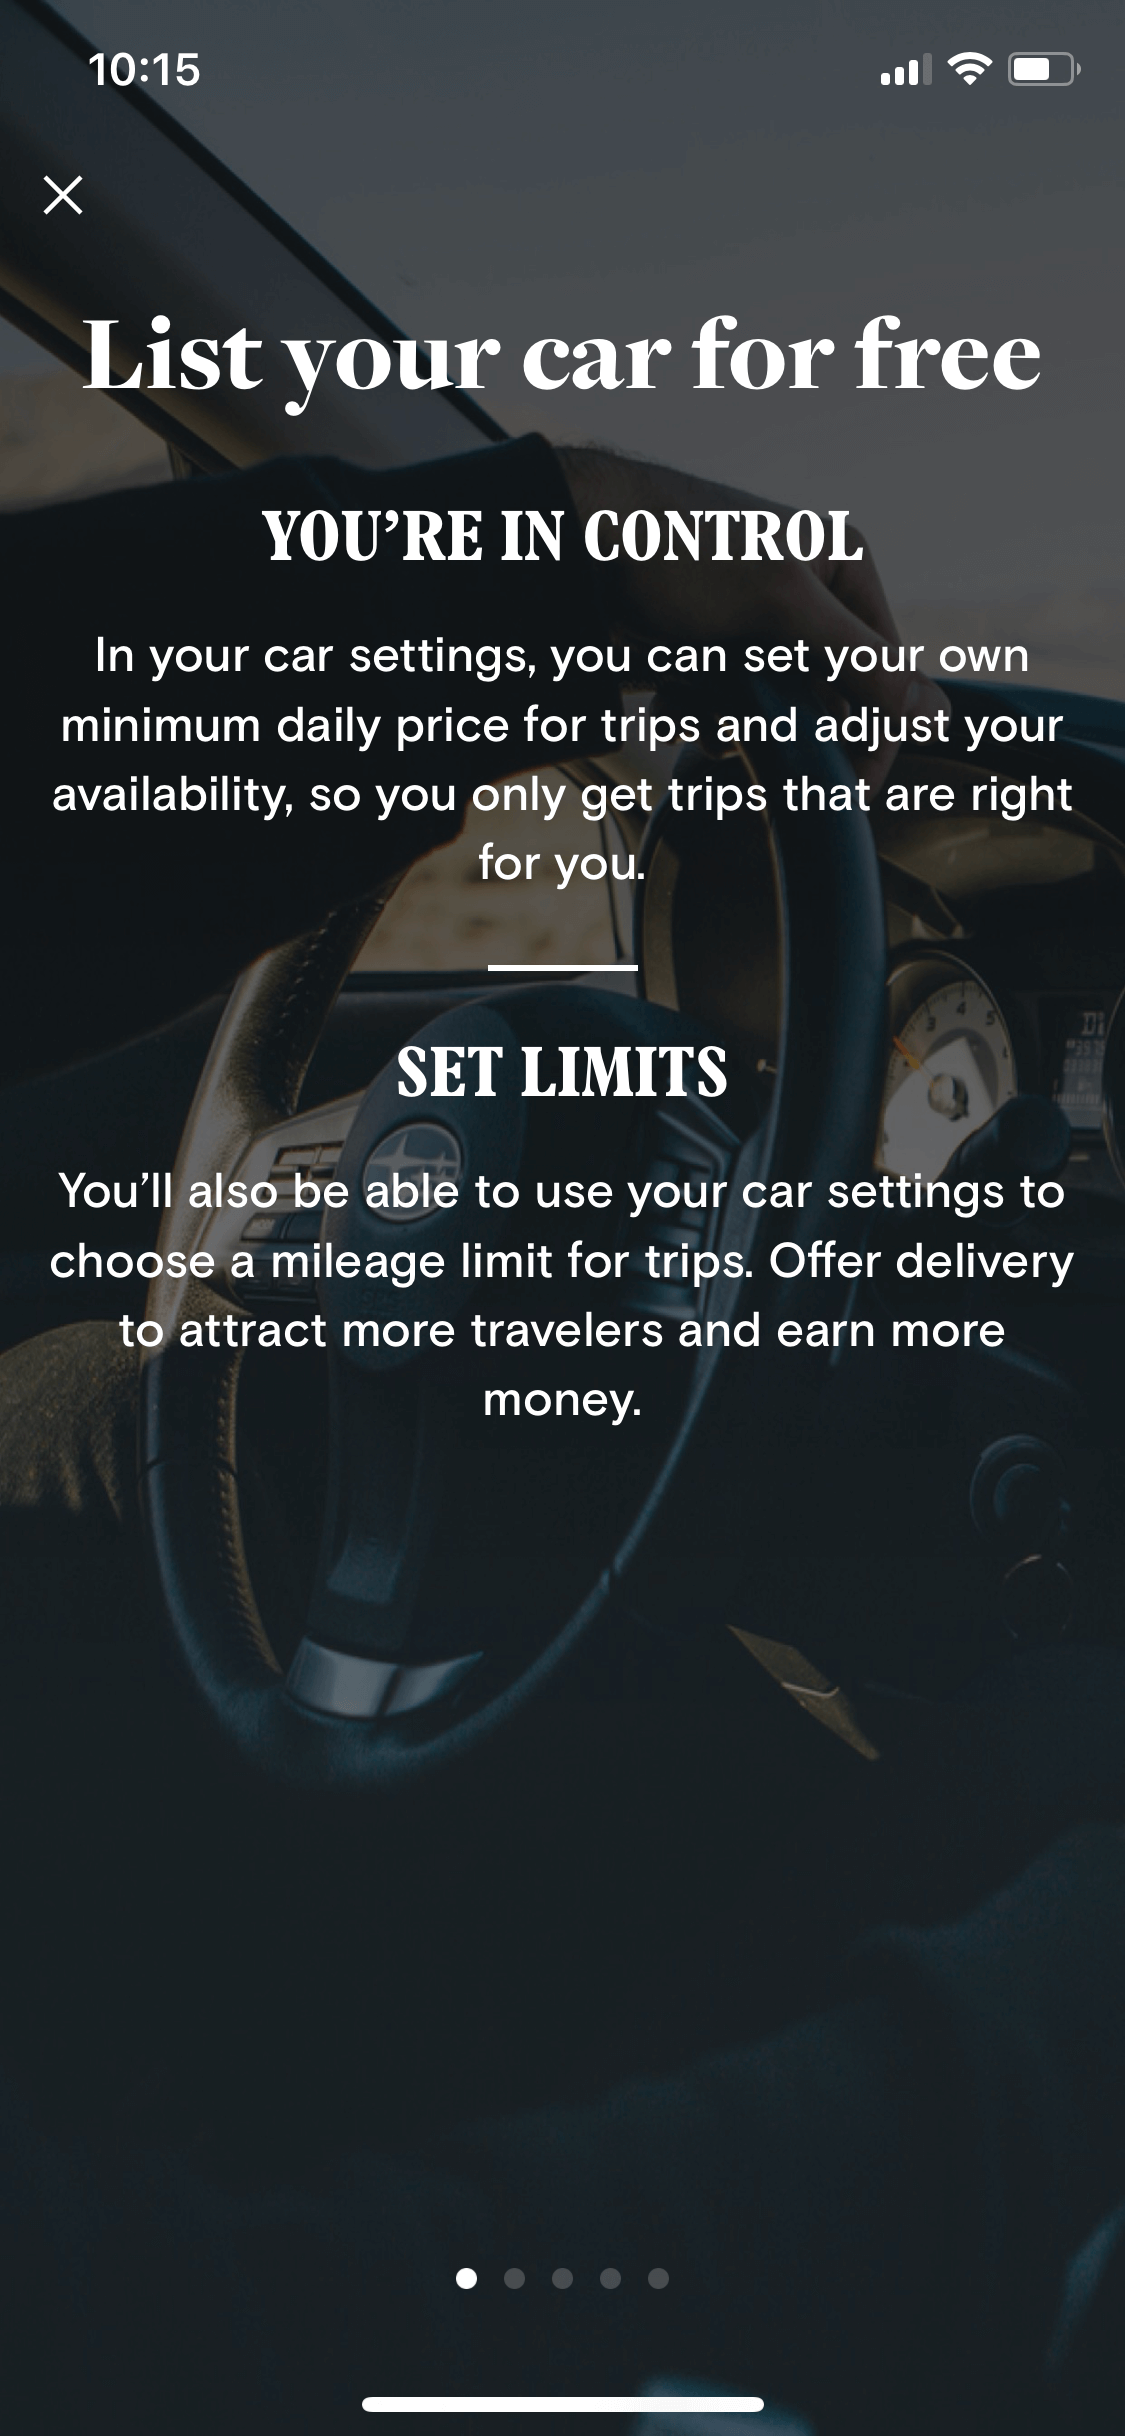Buttons: (3, 129, 131, 250)
Page Controls: (421, 2218, 710, 2326)
